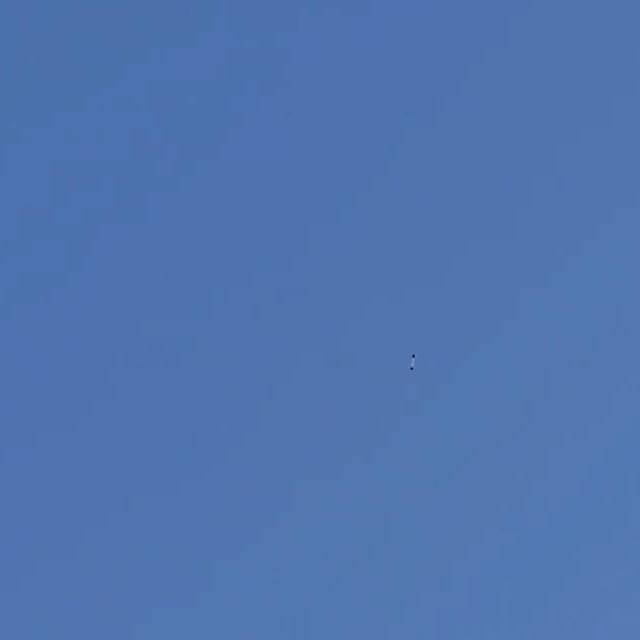rocket: (408, 353, 416, 373)
